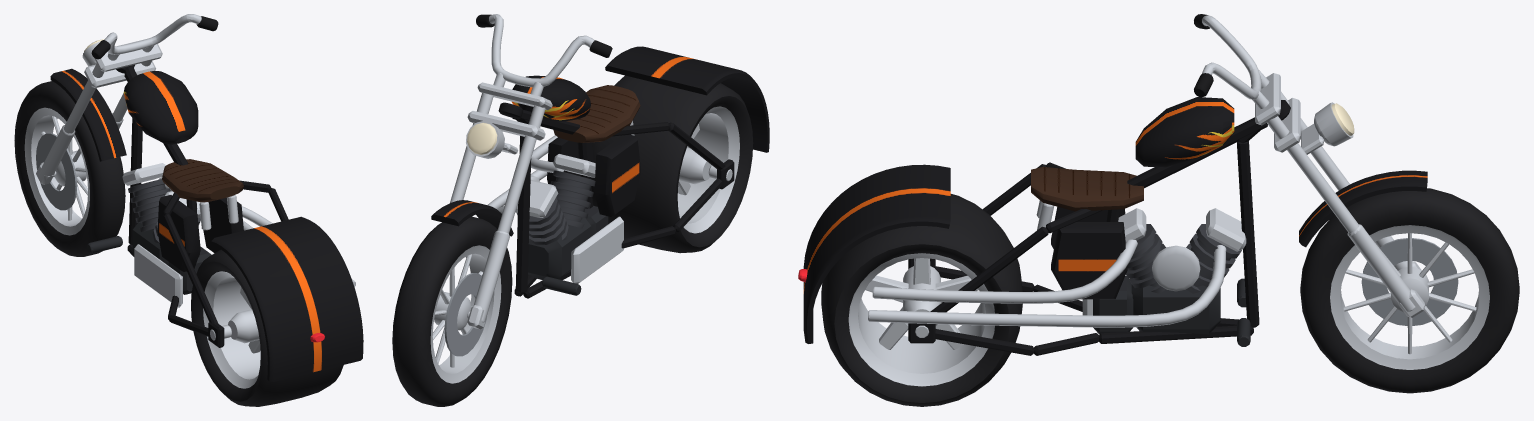
Rendered from MotorcycleTag_Chopper.glb.
3 renders of one model, left to right at view 1: azimuth 30°, elevation 25°; view 2: azimuth 150°, elevation 25°; view 3: azimuth 270°, elevation 25°, orthographic. The views are drawn at different scales.
Parts seen in each view (by area): view 1: Bodywork, FrontWheel, RearWheel, Engine, Fork, Seat, Swingarm, FrontFender, Frame, Handlebars, Exhaust; view 2: RearWheel, FrontWheel, Bodywork, Engine, Fork, Frame, Seat, Swingarm, Handlebars, FrontFender, Exhaust, Headlight; view 3: FrontWheel, RearWheel, Bodywork, Engine, Exhaust, Fork, Frame, Swingarm, Seat, FrontFender, Handlebars.
Boxes of the visible parts, x1,y1,x2,y2 form: Bodywork: [123, 71, 363, 381]; FrontWheel: [14, 81, 125, 256]; RearWheel: [191, 249, 343, 406]; Engine: [122, 163, 211, 307]; Fork: [36, 39, 162, 184]; Seat: [162, 159, 243, 230]; Swingarm: [163, 180, 288, 347]; FrontFender: [50, 68, 126, 161]; Frame: [86, 64, 199, 256]; Handlebars: [91, 14, 218, 60]; Exhaust: [158, 177, 355, 287]; RearWheel: [591, 75, 753, 253]; FrontWheel: [392, 216, 512, 406]; Bodywork: [512, 46, 769, 216]; Engine: [515, 154, 623, 283]; Fork: [450, 82, 552, 329]; Frame: [498, 102, 592, 298]; Seat: [553, 85, 640, 142]; Swingarm: [612, 122, 734, 248]; Handlebars: [476, 14, 612, 96]; FrontFender: [431, 200, 513, 236]; Exhaust: [487, 135, 563, 213]; Headlight: [467, 122, 497, 154]; FrontWheel: [1300, 188, 1519, 393]; RearWheel: [821, 194, 1022, 406]; Bodywork: [803, 97, 1234, 343]; Engine: [1082, 208, 1246, 334]; Exhaust: [868, 239, 1226, 327]; Fork: [1255, 73, 1424, 317]; Frame: [1099, 100, 1290, 346]; Swingarm: [908, 162, 1102, 355]; Seat: [1031, 166, 1143, 233]; FrontFender: [1299, 170, 1427, 247]; Handlebars: [1194, 14, 1269, 108].
Size of the model in its own units: 2.3 by 4.78 by 8.95.
1 material, 1 textured.
